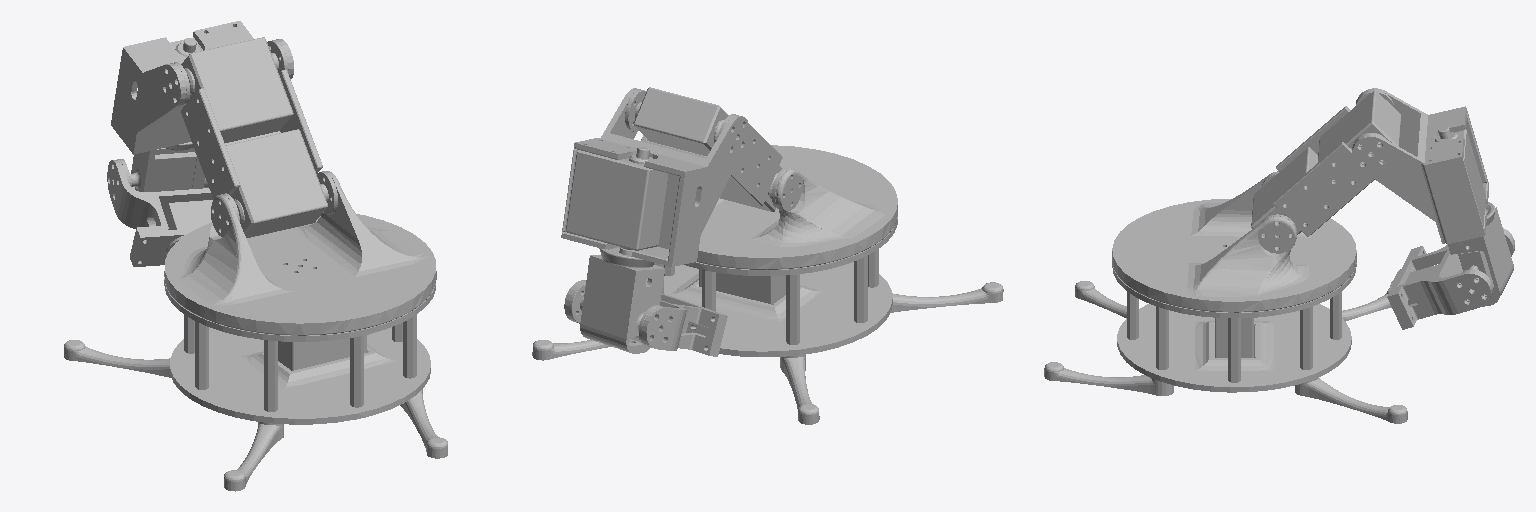
robot.urdf — sixpack:
<robot
  name="sixpack">
  <link
    name="base_link">
    <inertial>
      <origin
        xyz="0.00229210312133202 0.0308199185868277 2.00209042159186E-05"
        rpy="0 0 0" />
      <mass
        value="0.124869268424245" />
      <inertia
        ixx="0.000166234501737584"
        ixy="-2.84192605089271E-06"
        ixz="4.31135946566176E-06"
        iyy="0.00022999231141292"
        iyz="7.05822052386472E-08"
        izz="0.000160847922816684" />
    </inertial>
    <visual>
      <origin
        xyz="0 0 0"
        rpy="0 0 0" />
      <geometry>
        <mesh
          filename="package://sixpack/meshes/base_link.STL" />
      </geometry>
      <material
        name="">
        <color
          rgba="0.752941176470588 0.752941176470588 0.752941176470588 1" />
      </material>
    </visual>
    <collision>
      <origin
        xyz="0 0 0"
        rpy="0 0 0" />
      <geometry>
        <mesh
          filename="package://sixpack/meshes/base_link.STL" />
      </geometry>
    </collision>
  </link>
  <link
    name="schulter">
    <inertial>
      <origin
        xyz="-0.0031447 0.0091895 3.9312E-05"
        rpy="0 0 0" />
      <mass
        value="0.06271" />
      <inertia
        ixx="6.8321E-05"
        ixy="2.0548E-06"
        ixz="4.8842E-08"
        iyy="0.00011472"
        iyz="-5.1134E-08"
        izz="5.143E-05" />
    </inertial>
    <visual>
      <origin
        xyz="0 0 0"
        rpy="0 0 0" />
      <geometry>
        <mesh
          filename="package://sixpack/meshes/schulter.STL" />
      </geometry>
      <material
        name="">
        <color
          rgba="0.75294 0.75294 0.75294 1" />
      </material>
    </visual>
    <collision>
      <origin
        xyz="0 0 0"
        rpy="0 0 0" />
      <geometry>
        <mesh
          filename="package://sixpack/meshes/schulter.STL" />
      </geometry>
    </collision>
  </link>
  <joint
    name="sockel_rot"
    type="continuous">
    <origin
      xyz="0 0 0.0546"
      rpy="1.5708 -8.0214E-17 -1.6044" />
    <parent
      link="base_link" />
    <child
      link="schulter" />
    <axis
      xyz="0 1 0" />
  </joint>
  <link
    name="oberarm">
    <inertial>
      <origin
        xyz="-0.0335000000003203 -0.000972178529096042 0.000100000000009392"
        rpy="0 0 0" />
      <mass
        value="0.07800703939138" />
      <inertia
        ixx="1.64701178599122E-05"
        ixy="-2.91759372127924E-14"
        ixz="2.67759244414455E-07"
        iyy="6.07113544093514E-05"
        iyz="1.55447745883949E-14"
        izz="5.08908543962999E-05" />
    </inertial>
    <visual>
      <origin
        xyz="0 0 0"
        rpy="0 0 0" />
      <geometry>
        <mesh
          filename="package://sixpack/meshes/oberarm.STL" />
      </geometry>
      <material
        name="">
        <color
          rgba="0.752941176470588 0.752941176470588 0.752941176470588 1" />
      </material>
    </visual>
    <collision>
      <origin
        xyz="0 0 0"
        rpy="0 0 0" />
      <geometry>
        <mesh
          filename="package://sixpack/meshes/oberarm.STL" />
      </geometry>
    </collision>
  </link>
  <joint
    name="schulter_turn"
    type="continuous">
    <origin
      xyz="-0.022924 0.029878 0"
      rpy="4.2015E-15 -4.1356E-15 -0.76967" />
    <parent
      link="schulter" />
    <child
      link="oberarm" />
    <axis
      xyz="0 0 -1" />
  </joint>
  <link
    name="ellbogen">
    <inertial>
      <origin
        xyz="-0.0315728910168477 0.0299553498472602 -0.0048996102772783"
        rpy="0 0 0" />
      <mass
        value="0.056055922130098" />
      <inertia
        ixx="2.46748102969753E-05"
        ixy="4.20034287217436E-06"
        ixz="-7.56873647155022E-07"
        iyy="3.15633414638931E-05"
        iyz="1.3212260877232E-06"
        izz="2.02141864149201E-05" />
    </inertial>
    <visual>
      <origin
        xyz="0 0 0"
        rpy="0 0 0" />
      <geometry>
        <mesh
          filename="package://sixpack/meshes/ellbogen.STL" />
      </geometry>
      <material
        name="">
        <color
          rgba="0.752941176470588 0.752941176470588 0.752941176470588 1" />
      </material>
    </visual>
    <collision>
      <origin
        xyz="0 0 0"
        rpy="0 0 0" />
      <geometry>
        <mesh
          filename="package://sixpack/meshes/ellbogen.STL" />
      </geometry>
    </collision>
  </link>
  <joint
    name="oberarm_turn"
    type="continuous">
    <origin
      xyz="-0.067 0 0"
      rpy="-1.5959E-16 1.9082E-16 2.0622" />
    <parent
      link="oberarm" />
    <child
      link="ellbogen" />
    <axis
      xyz="0 0 -1" />
  </joint>
  <link
    name="unterarm">
    <inertial>
      <origin
        xyz="-0.0004665143594513 -0.00090976482948979 -0.0343085356985312"
        rpy="0 0 0" />
      <mass
        value="0.0177110739218864" />
      <inertia
        ixx="3.31015948673458E-06"
        ixy="-1.87376525109976E-08"
        ixz="-6.73693973315115E-08"
        iyy="4.44605749549143E-06"
        iyz="-4.77996778338839E-08"
        izz="2.131822525471E-06" />
    </inertial>
    <visual>
      <origin
        xyz="0 0 0"
        rpy="0 0 0" />
      <geometry>
        <mesh
          filename="package://sixpack/meshes/unterarm.STL" />
      </geometry>
      <material
        name="">
        <color
          rgba="0.752941176470588 0.752941176470588 0.752941176470588 1" />
      </material>
    </visual>
    <collision>
      <origin
        xyz="0 0 0"
        rpy="0 0 0" />
      <geometry>
        <mesh
          filename="package://sixpack/meshes/unterarm.STL" />
      </geometry>
    </collision>
  </link>
  <joint
    name="ellbogen_rot"
    type="continuous">
    <origin
      xyz="-0.045184 0.034999 0.0002"
      rpy="1.5708 -1.3573 1.5708" />
    <parent
      link="ellbogen" />
    <child
      link="unterarm" />
    <axis
      xyz="0 0 1" />
  </joint>
  <link
    name="hand">
    <inertial>
      <origin
        xyz="-0.00178396235206525 5.03307839287703E-07 0.0272101669416818"
        rpy="0 0 0" />
      <mass
        value="0.0217073358618255" />
      <inertia
        ixx="5.41977060598447E-06"
        ixy="-8.33233614578853E-12"
        ixz="1.47736387595121E-07"
        iyy="1.03187308323944E-05"
        iyz="1.20251567397395E-11"
        izz="6.0636714378395E-06" />
    </inertial>
    <visual>
      <origin
        xyz="0 0 0"
        rpy="0 0 0" />
      <geometry>
        <mesh
          filename="package://sixpack/meshes/hand.STL" />
      </geometry>
      <material
        name="">
        <color
          rgba="0.752941176470588 0.752941176470588 0.752941176470588 1" />
      </material>
    </visual>
    <collision>
      <origin
        xyz="0 0 0"
        rpy="0 0 0" />
      <geometry>
        <mesh
          filename="package://sixpack/meshes/hand.STL" />
      </geometry>
    </collision>
  </link>
  <joint
    name="unterarm_turn"
    type="continuous">
    <origin
      xyz="0 0 -0.043333"
      rpy="-1.7046 -1.7902E-15 -6.3838E-16" />
    <parent
      link="unterarm" />
    <child
      link="hand" />
    <axis
      xyz="-1 0 0" />
  </joint>
</robot>

--- What the picture shows (computed from the rendered views, not written in the file) ---
The picture shows the robot from 3 angles, left to right: view 1: azimuth 30°, elevation 25°; view 2: azimuth 150°, elevation 25°; view 3: azimuth 270°, elevation 25°; orthographic projection.
Model sixpack with 6 links and 5 joints (5 continuous), rooted at base_link, posed all joints at 0.
Links seen in each view (by area): view 1: schulter, base_link, oberarm, ellbogen, hand, unterarm; view 2: base_link, ellbogen, schulter, oberarm, unterarm, hand; view 3: base_link, schulter, ellbogen, oberarm, hand, unterarm.
Boxes of the visible links, x1,y1,x2,y2 form: schulter: (164,171,436,335); base_link: (64,278,447,491); oberarm: (181,37,327,237); ellbogen: (111,21,293,154); hand: (107,159,213,266); unterarm: (131,142,208,191); base_link: (532,217,1003,424); ellbogen: (561,88,748,266); schulter: (697,145,897,269); oberarm: (633,87,782,211); unterarm: (580,247,664,353); hand: (564,280,727,356); base_link: (1044,263,1407,423); schulter: (1112,171,1356,312); ellbogen: (1352,88,1488,243); oberarm: (1251,90,1400,236); hand: (1387,228,1514,329); unterarm: (1448,202,1513,306).
Size in the robot's own frame: 0.1602 by 0.2408 by 0.1449 metres.
6 mesh visuals loaded from 6 distinct referenced files (6 binary STL).